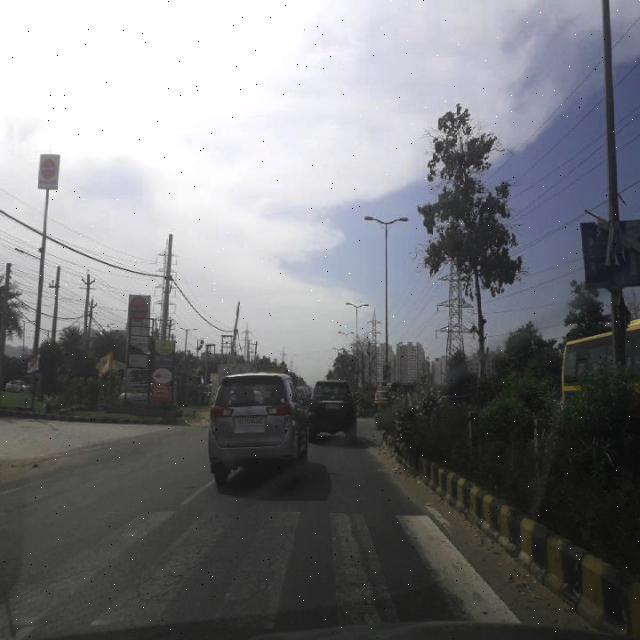D20: (0, 504, 476, 622)
D43: (0, 505, 505, 639)
